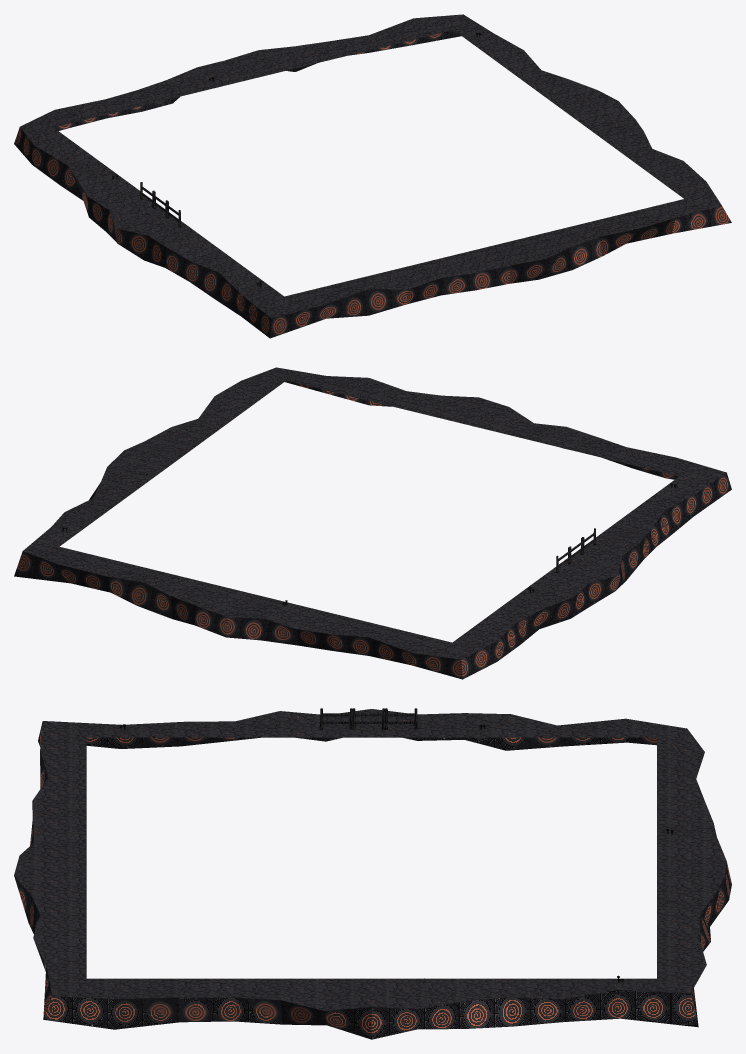
The model's file is entorno_16.fbx.
3 renders of one model, top to bottom at view 1: azimuth 30°, elevation 25°; view 2: azimuth 150°, elevation 25°; view 3: azimuth 270°, elevation 25°, orthographic. The views are drawn at different scales.
Parts seen in each view (by area): view 1: vulcao_entorno_16; view 2: vulcao_entorno_16; view 3: vulcao_entorno_16.
Part boxes in pixels (x1=…): vulcao_entorno_16: x1=14, y1=14, x2=731, y2=338; vulcao_entorno_16: x1=14, y1=367, x2=731, y2=679; vulcao_entorno_16: x1=14, y1=708, x2=731, y2=1039.
Bounding box in the file's own units: 2059 × 170 × 2039.
7 materials, 5 textured.
